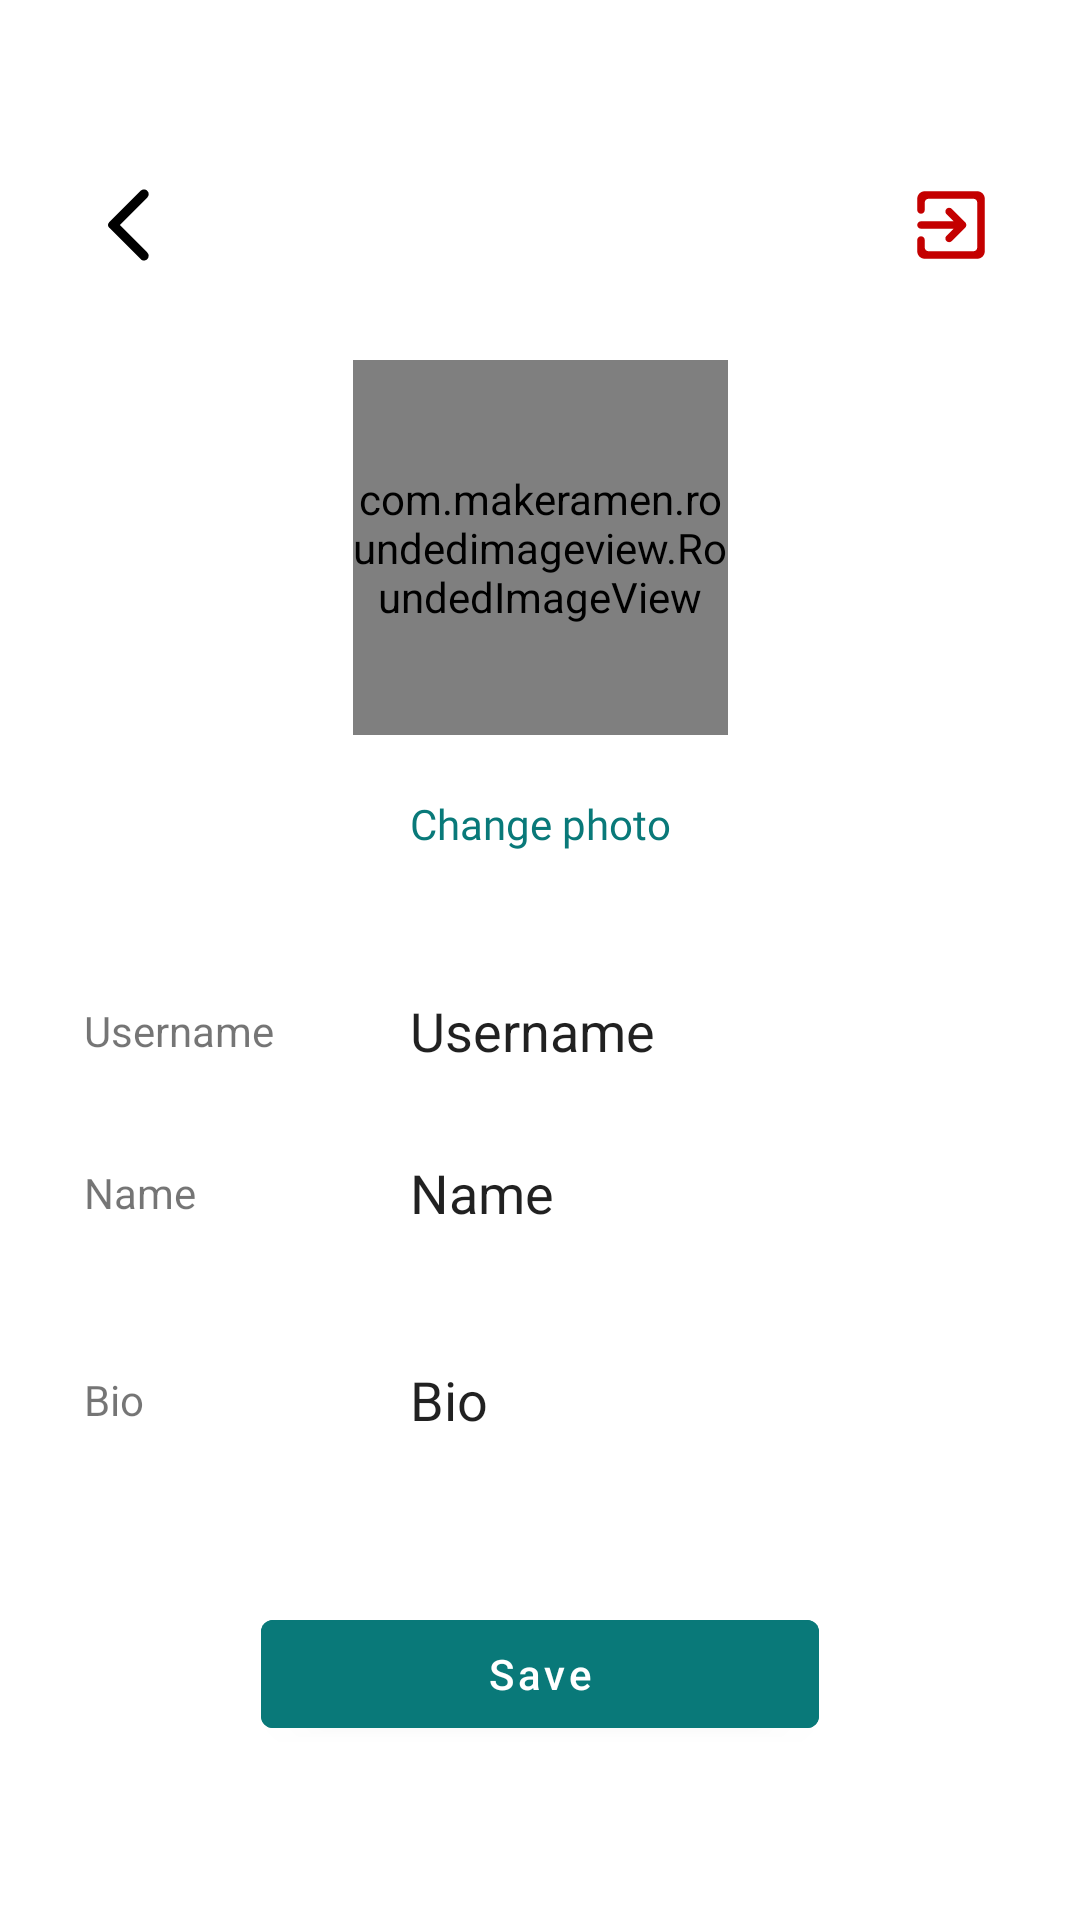

Named icons in this screenshot (1080×1920) and their bounding boxes, (x1, y1, x2, y2):
Image for Back: (108, 189, 149, 261)
